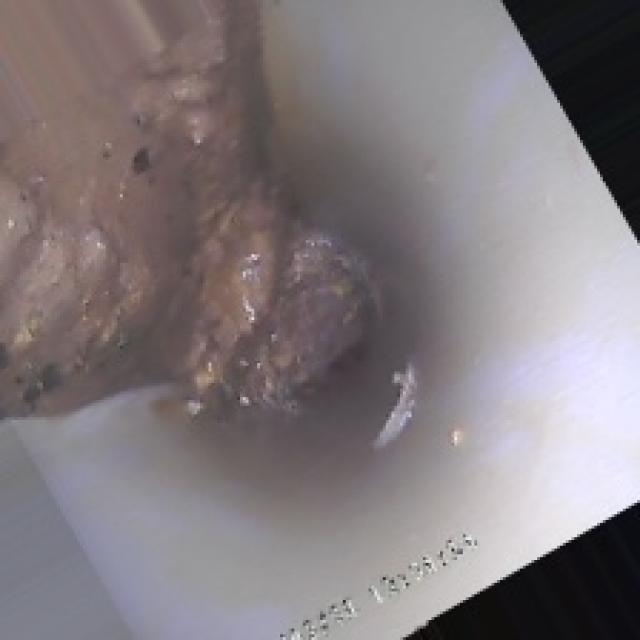sluge accumulation: (14, 23, 346, 414)
